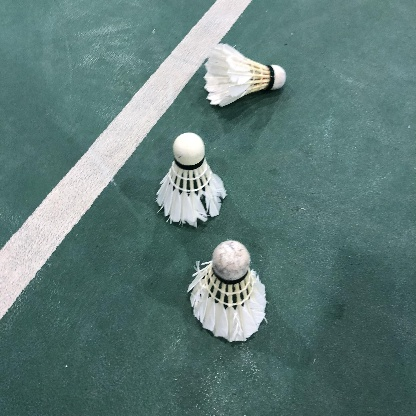ball_single: (187, 240, 267, 342), (156, 132, 227, 227), (204, 43, 286, 106)
